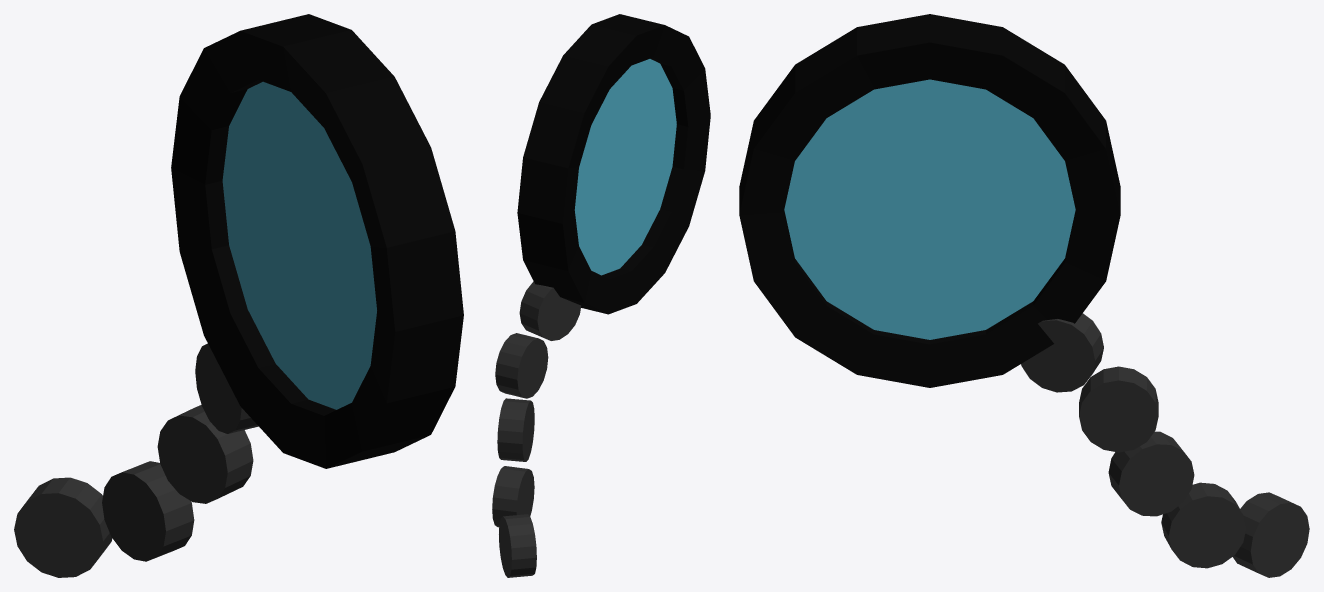
The model's file is Monocle.fbx.
The picture shows the model from 3 angles, left to right: view 1: azimuth 30°, elevation 25°; view 2: azimuth 150°, elevation 25°; view 3: azimuth 270°, elevation 25°; orthographic projection. The views are drawn at different scales.
Visible parts, largest first — view 1: Cylinder, Circle, Cylinder.003; view 2: Cylinder, Circle, Cylinder.003; view 3: Circle, Cylinder, Cylinder.003.
Boxes of the visible parts, x1=… form: Cylinder: x1=171, y1=14, x2=463, y2=468; Circle: x1=222, y1=81, x2=376, y2=409; Cylinder.003: x1=14, y1=343, x2=258, y2=577; Cylinder: x1=517, y1=14, x2=710, y2=314; Circle: x1=574, y1=59, x2=676, y2=275; Cylinder.003: x1=492, y1=281, x2=580, y2=577; Circle: x1=784, y1=79, x2=1075, y2=339; Cylinder: x1=739, y1=14, x2=1120, y2=387; Cylinder.003: x1=1021, y1=313, x2=1309, y2=577.
Size of the model in its own units: 94.28 by 427 by 390.
